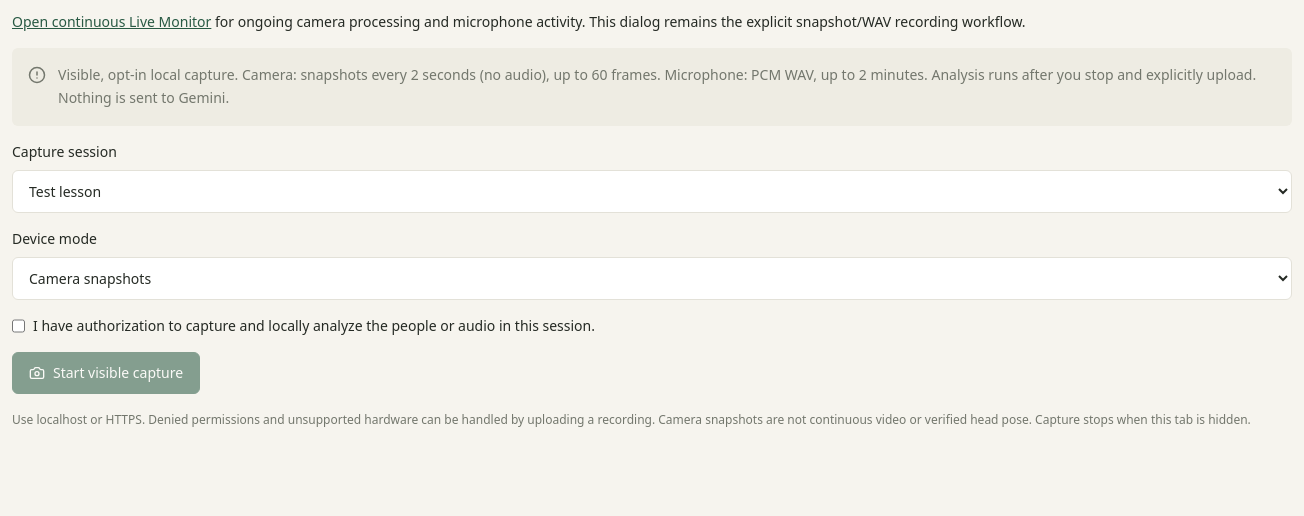
Test: capture UI requires authorization and reports permission denial
The width and height of the screenshot is (1304, 516).
Expected: the button "Start visible capture" is disabled, [12, 352, 200, 394]
Click the checkbox at [18, 326], box [12, 316, 25, 336]
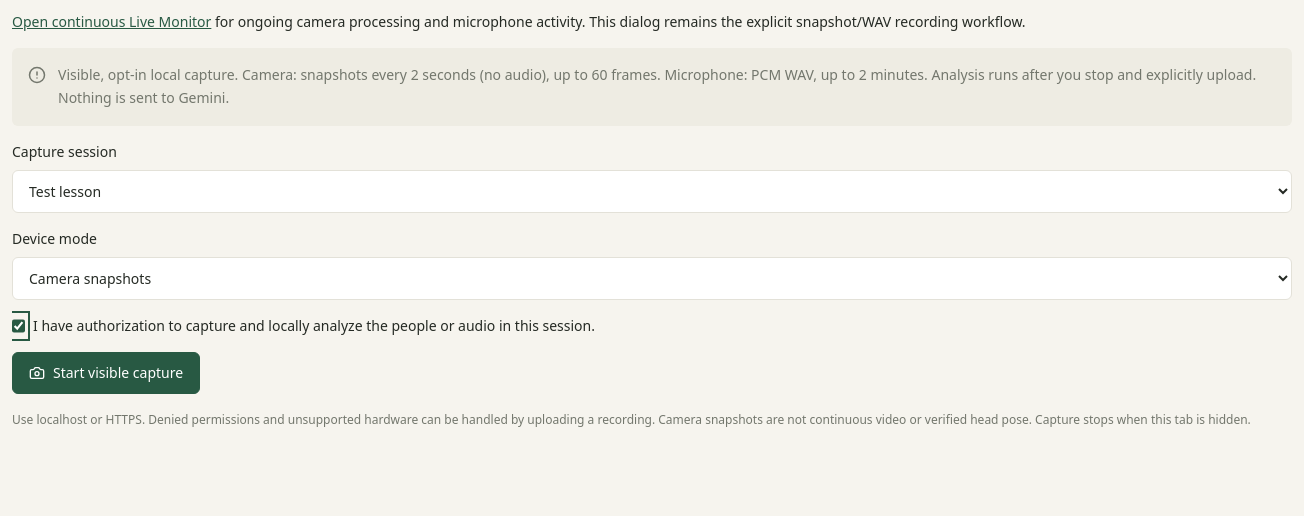
Click the button "Start visible capture" at [106, 372], box [12, 352, 200, 394]
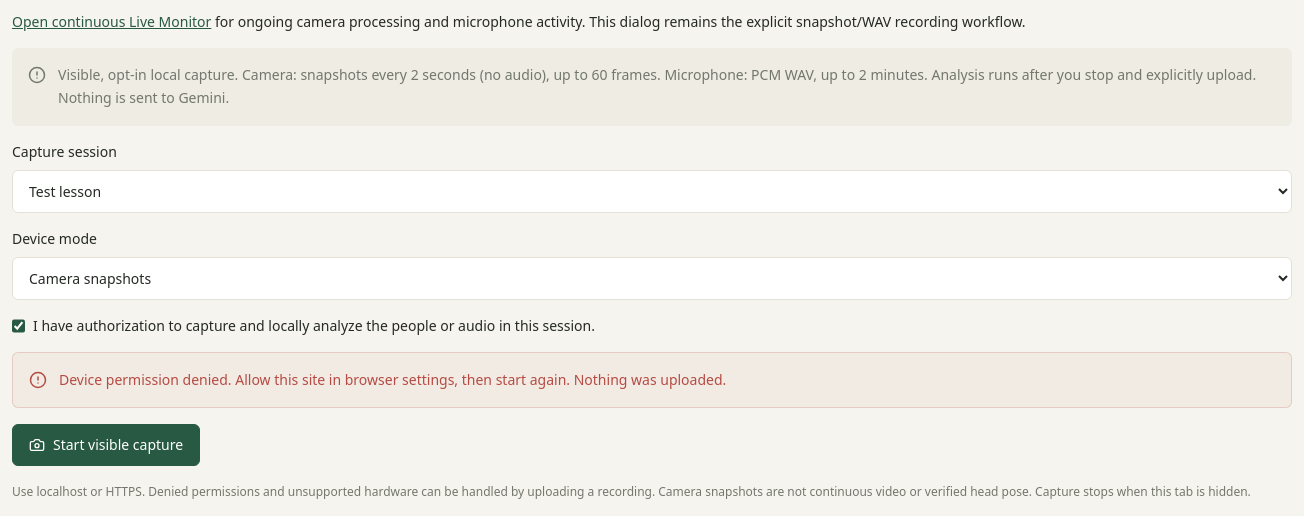
Expected: the button "Start visible capture" is enabled, [12, 424, 200, 466]
Expected: the text "Device permission denied" is shown, [59, 370, 726, 388]
